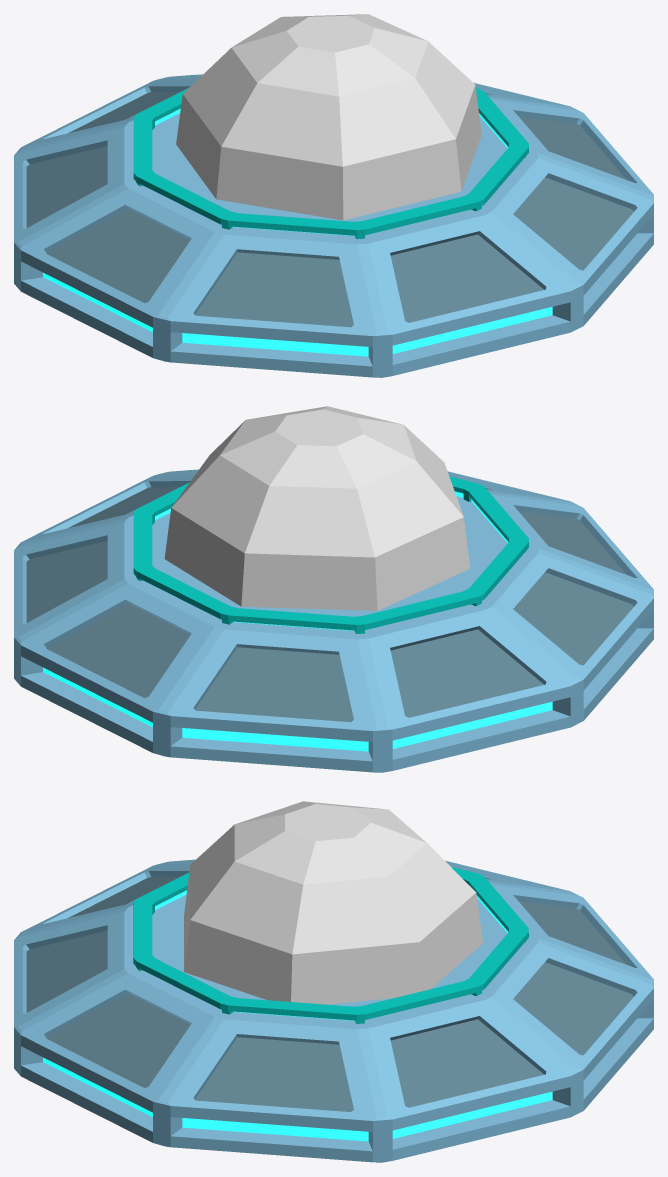
Rendered from Ship.fbx.
The picture shows the model from 3 angles, top to bottom: view 1: azimuth 30°, elevation 25°; view 2: azimuth 150°, elevation 25°; view 3: azimuth 270°, elevation 25°; orthographic projection.
Parts seen in each view (by area): view 1: Ship, Glass, shippart; view 2: Ship, Glass, shippart; view 3: Ship, Glass, shippart.
Part boxes in pixels (box(x1,y1,x2,y2)): Ship: box(14, 74, 653, 377); Glass: box(176, 14, 481, 220); shippart: box(133, 88, 528, 239); Ship: box(14, 469, 653, 772); Glass: box(164, 406, 470, 610); shippart: box(133, 476, 528, 633); Ship: box(14, 859, 653, 1162); Glass: box(184, 801, 482, 1004); shippart: box(133, 867, 528, 1023).
Bounding box in the file's own units: 343 × 145 × 338.
